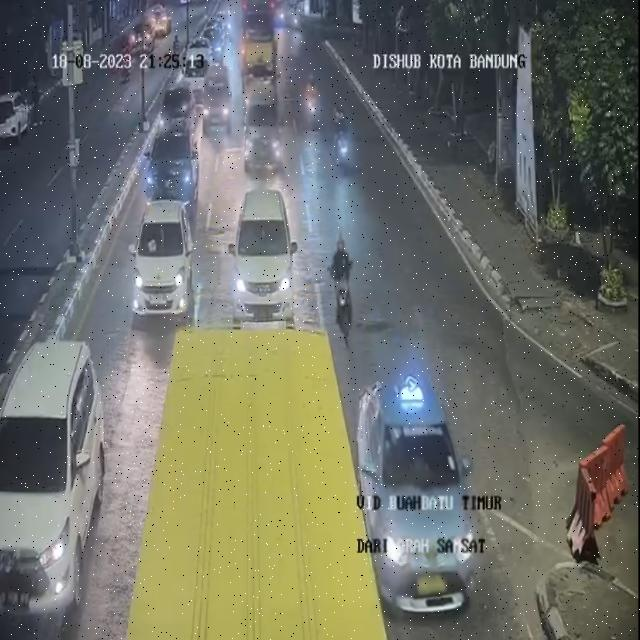cars: (0, 333, 106, 613), (372, 400, 476, 622), (234, 186, 295, 327), (133, 198, 197, 325), (536, 564, 640, 640), (147, 118, 198, 210), (246, 83, 283, 181), (242, 0, 281, 86), (204, 66, 232, 138), (165, 81, 198, 141)
motorcycle: (331, 230, 356, 332), (334, 110, 356, 179), (301, 118, 321, 188), (301, 72, 320, 132)
truck: (144, 317, 384, 638)
